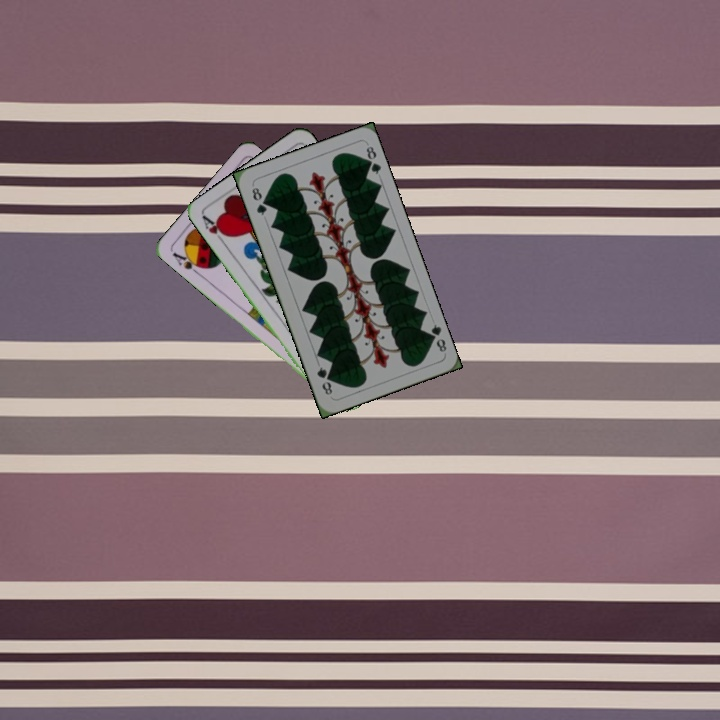G8: (423, 320, 449, 355), (248, 183, 269, 218)
HA: (199, 212, 231, 247)
SA: (168, 247, 207, 278)
